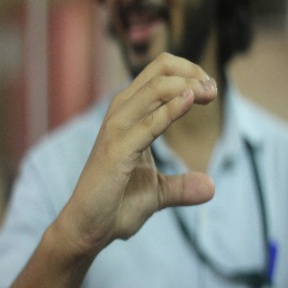C: (103, 50, 225, 219)
